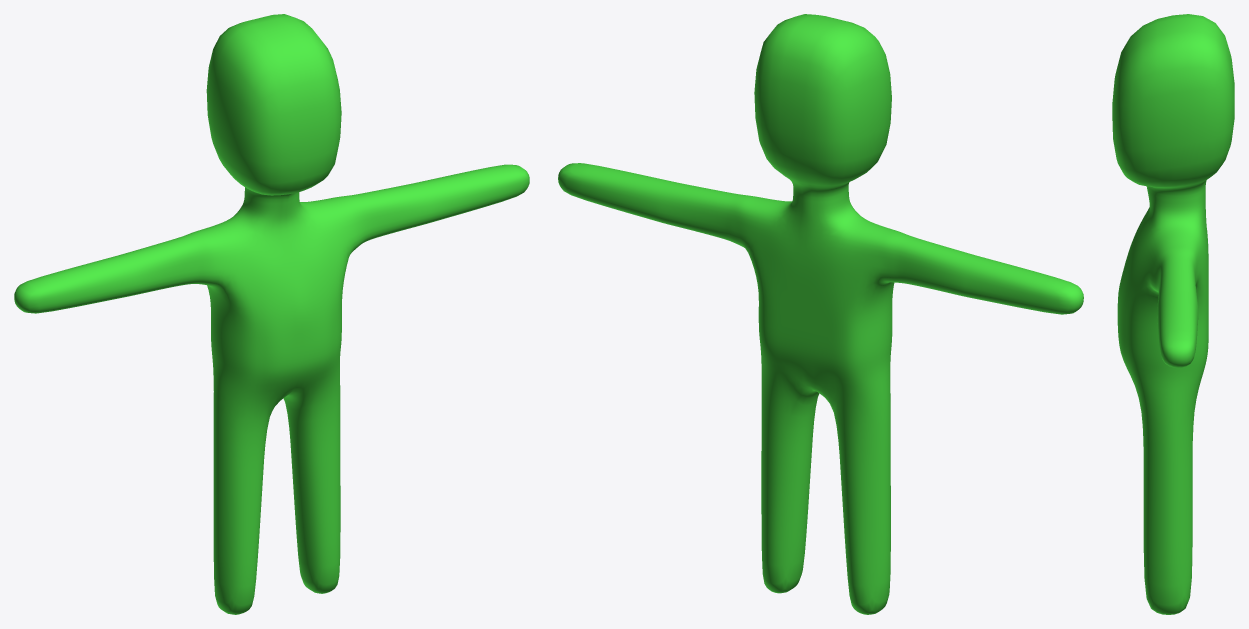
File: StickMan.gltf
3 renders of one model, left to right at view 1: azimuth 30°, elevation 25°; view 2: azimuth 150°, elevation 25°; view 3: azimuth 270°, elevation 25°, orthographic. The views are drawn at different scales.
Visible parts, largest first — view 1: Cube; view 2: Cube; view 3: Cube.
Part boxes in pixels (left/top/right/bottom): Cube: left=14, top=14, right=529, bottom=614; Cube: left=558, top=14, right=1083, bottom=614; Cube: left=1112, top=14, right=1234, bottom=614.
Size of the model in its own units: 6.54 by 7 by 1.37.
